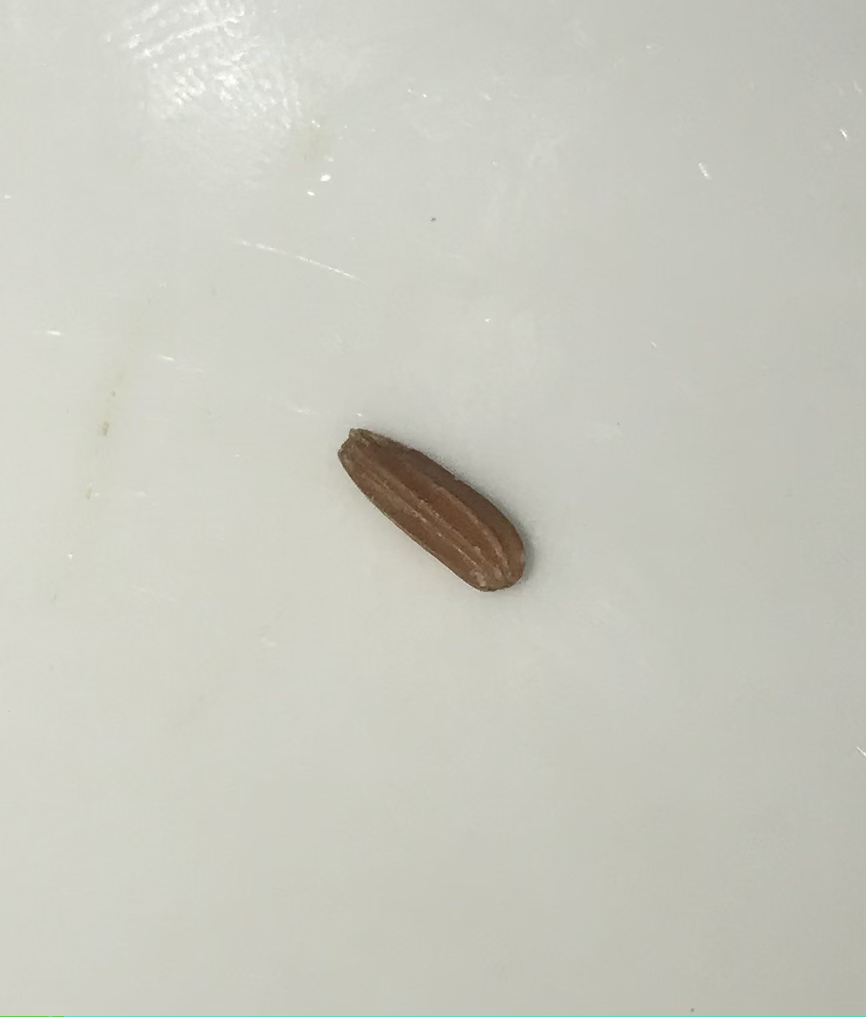Gao Lut Do: (318, 420, 533, 597)
